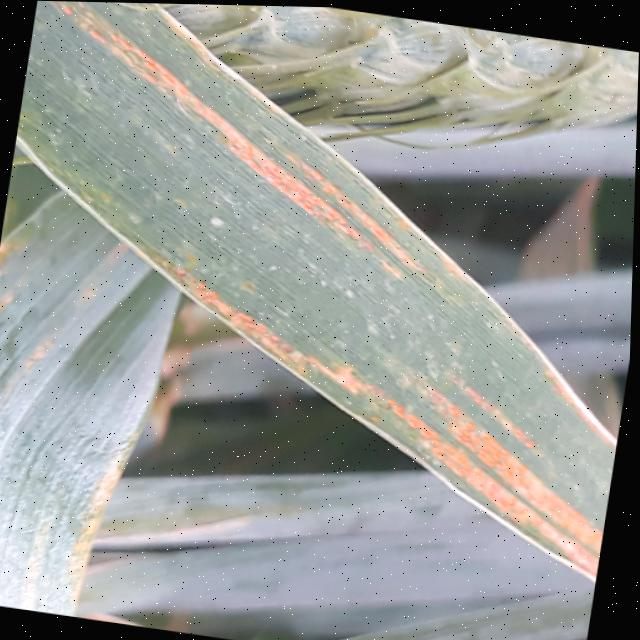yellow_rust: (0, 0, 640, 603), (0, 191, 188, 623)
